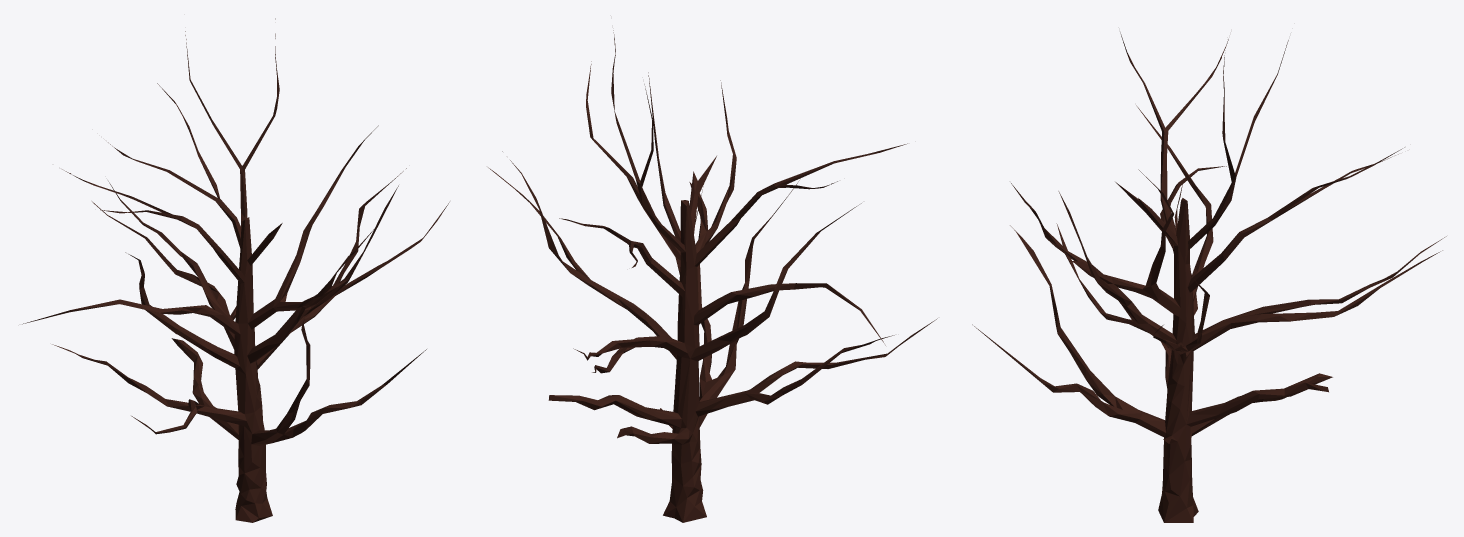
Rendered from dead_tree_e.FBX.
3 renders of one model, left to right at view 1: azimuth 30°, elevation 25°; view 2: azimuth 150°, elevation 25°; view 3: azimuth 270°, elevation 25°, orthographic. The views are drawn at different scales.
Parts seen in each view (by area): view 1: dead_tree_e; view 2: dead_tree_e; view 3: dead_tree_e.
Part boxes in pixels (x1,y1,x2,y2): dead_tree_e: (22,18,449,522); dead_tree_e: (488,30,937,522); dead_tree_e: (972,32,1446,522).
Bounding box in the file's own units: 1471 × 1618 × 1394.
